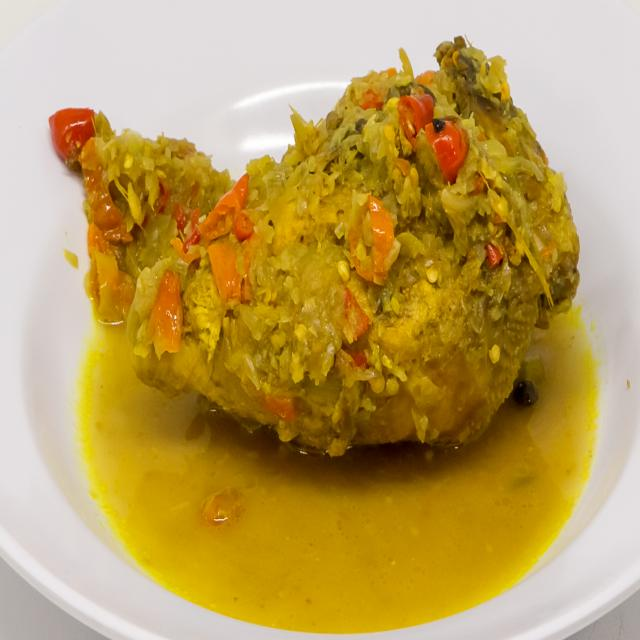Ayam-Betutu: (70, 20, 610, 478)
